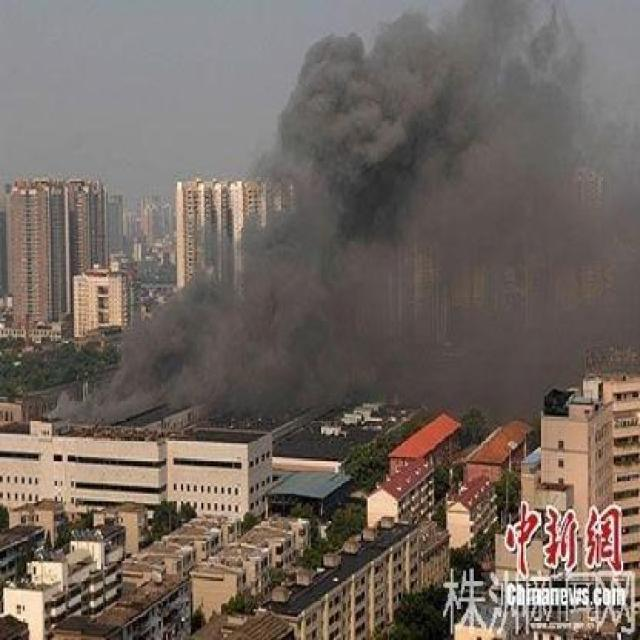Smoke: (59, 0, 638, 397)
